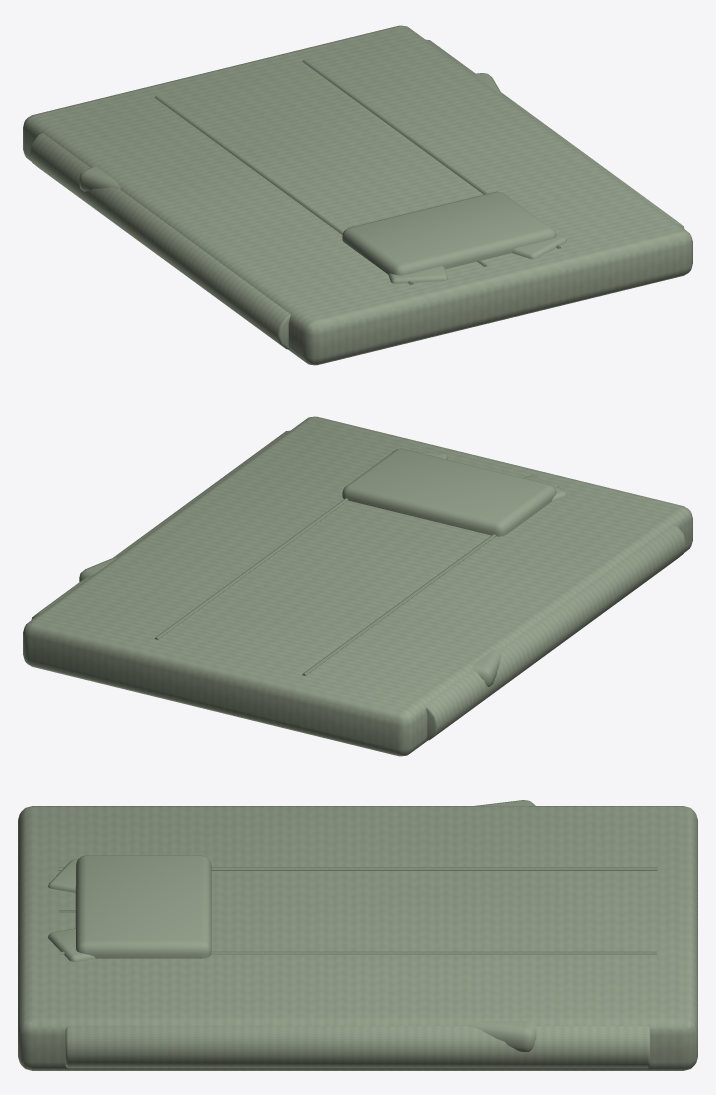
Rendered from pf_quarterzip_folded.glb.
3 renders of one model, top to bottom at view 1: azimuth 30°, elevation 25°; view 2: azimuth 150°, elevation 25°; view 3: azimuth 270°, elevation 25°, orthographic. The views are drawn at different scales.
Visible parts, largest first — view 1: pf_quarterzip_folded_body; view 2: pf_quarterzip_folded_body; view 3: pf_quarterzip_folded_body.
Part boxes in pixels (bbox=[...]): pf_quarterzip_folded_body: bbox=[23, 25, 692, 365]; pf_quarterzip_folded_body: bbox=[23, 416, 692, 756]; pf_quarterzip_folded_body: bbox=[18, 800, 697, 1070].
Bounding box in the file's own units: 0.2863 × 0.0398 × 0.354.
4 materials, 2 textured.
